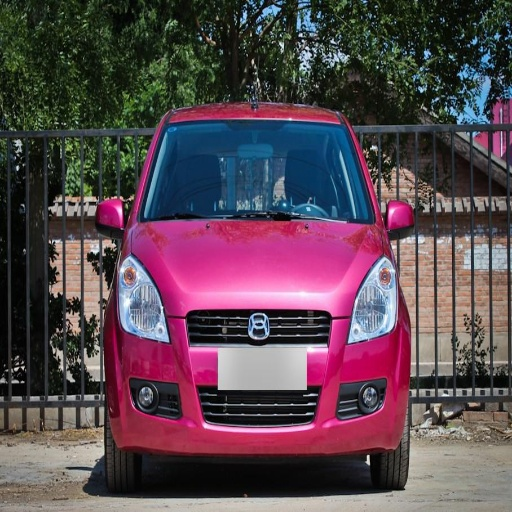front_bumper: (114, 310, 403, 452)
front_right_light: (115, 260, 171, 343)
hood: (129, 220, 388, 316)
